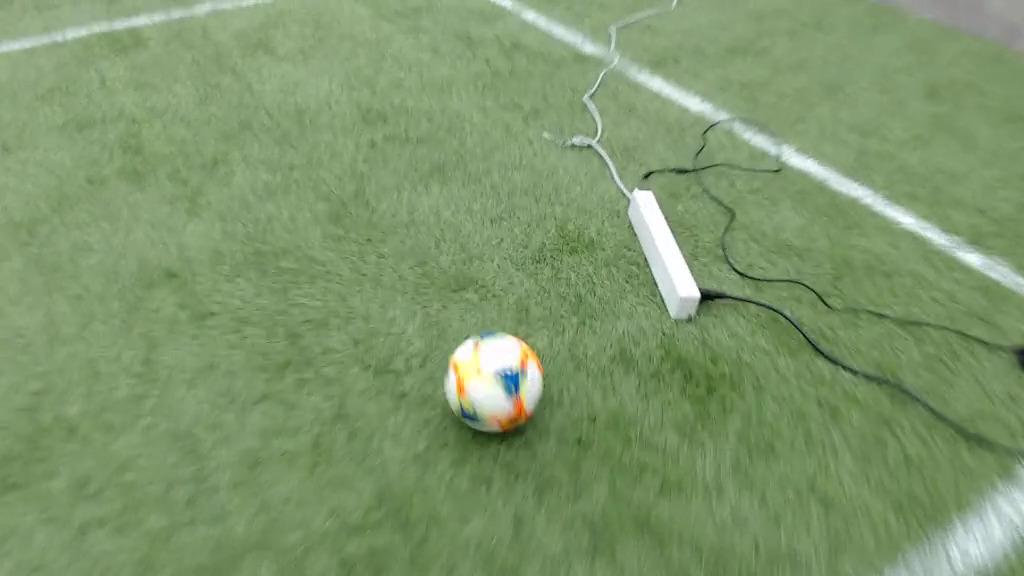ball: (445, 332, 542, 435)
